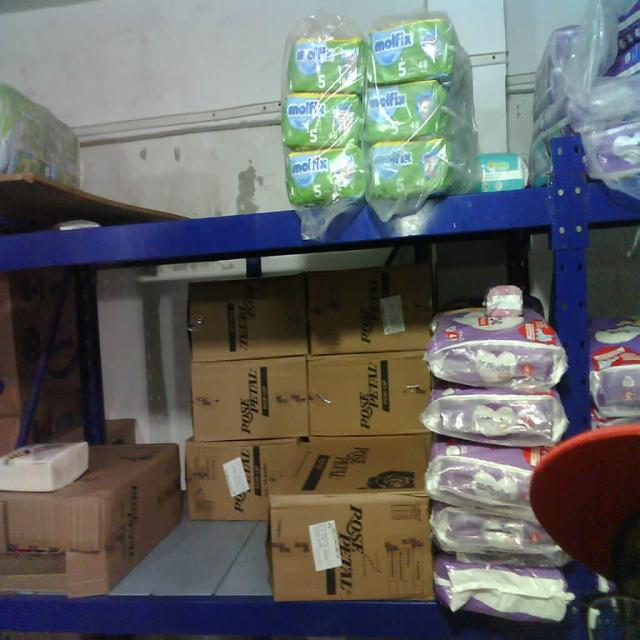box: (267, 492, 435, 602), (306, 261, 434, 358), (306, 356, 434, 435), (187, 276, 310, 358), (190, 360, 310, 442), (183, 439, 274, 519)
